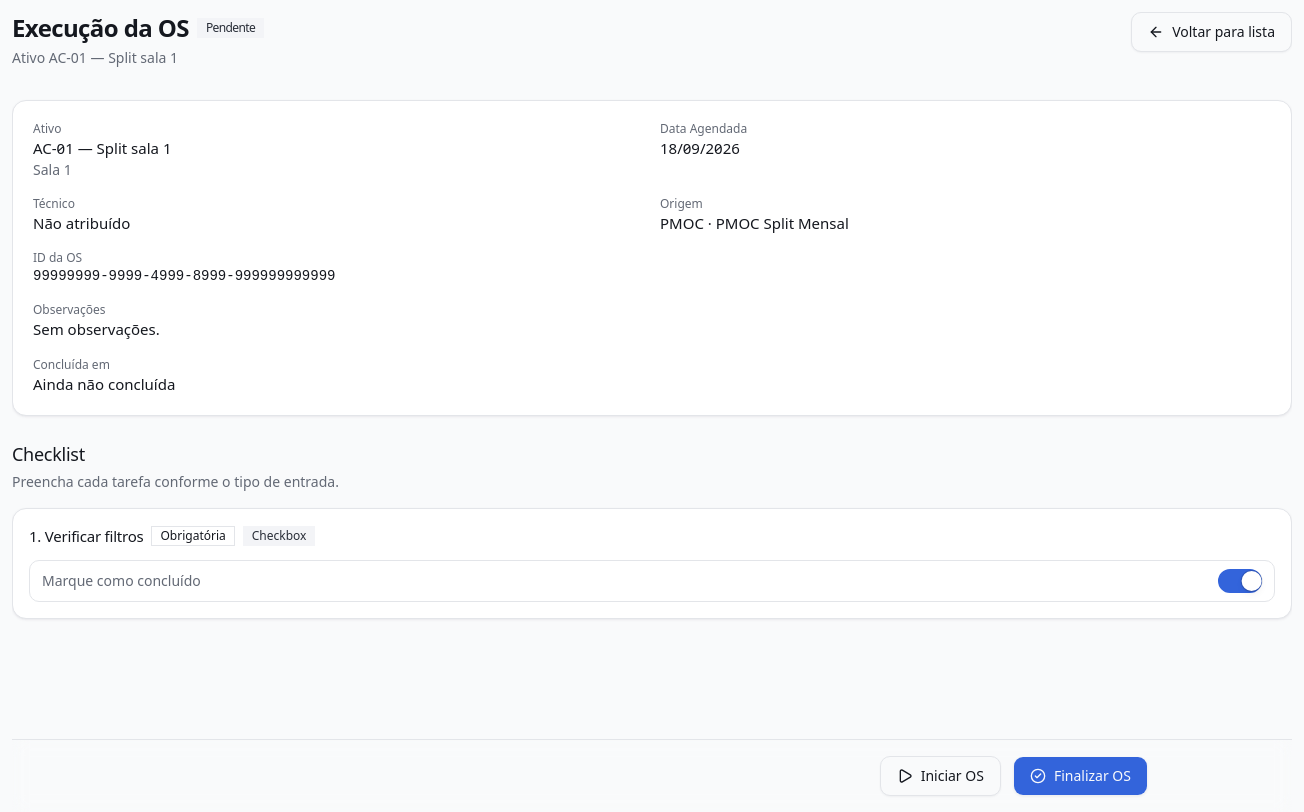
WorkOrderExecutionPage tasks › shows the task list from MANDATORY_TASKS_INCOMPLETE
Click the button "Finalizar OS": (1080, 776) [1013,756,1148,796]
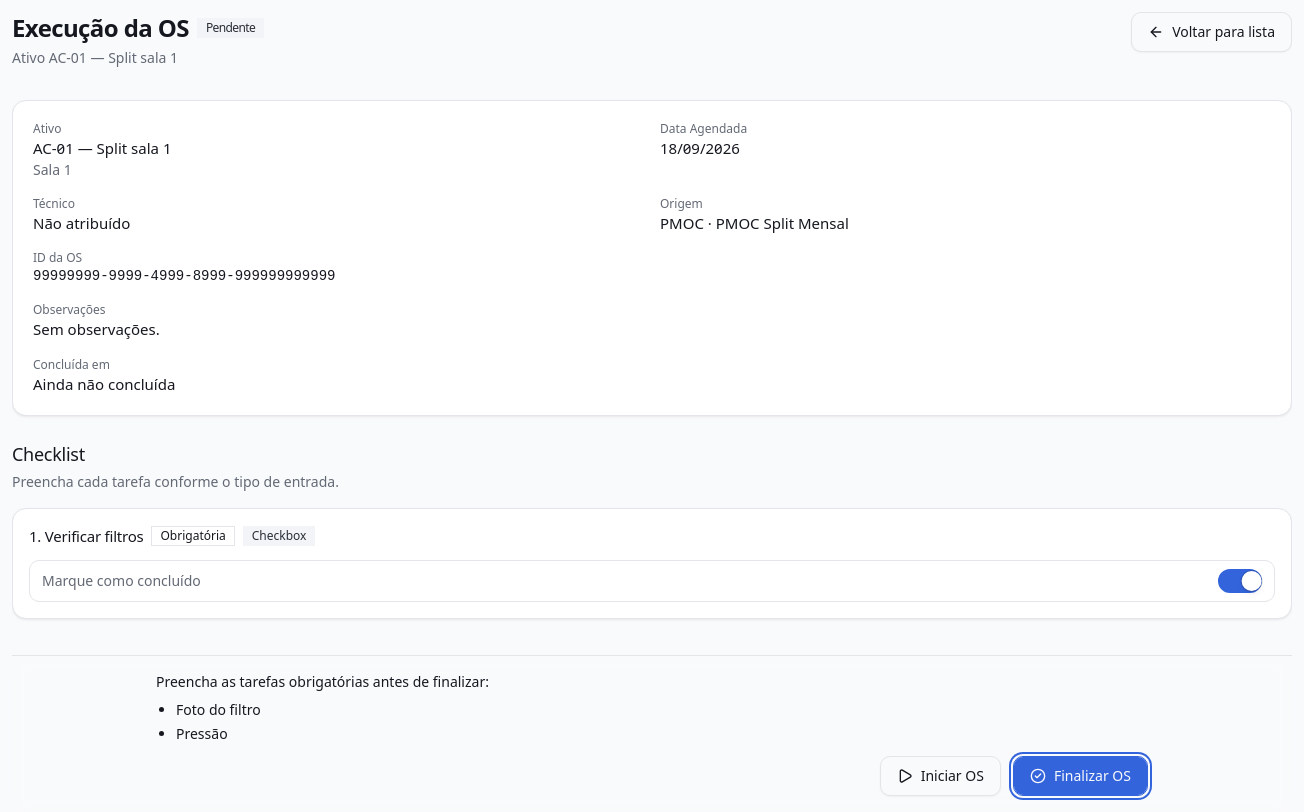
Now the list item "Foto do filtro" is shown, box [176,700,261,719]
Now the list item "Pressão" is shown, box [176,724,228,743]
